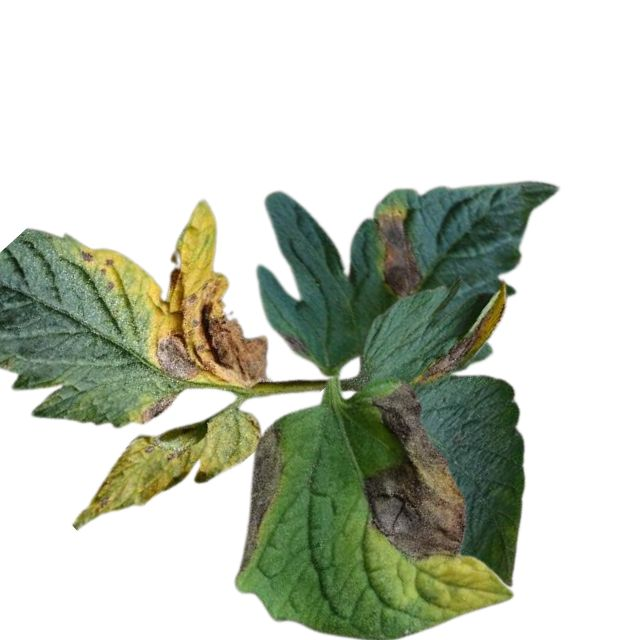Early_blight: (360, 381, 466, 562), (153, 262, 268, 385), (414, 283, 512, 380), (234, 426, 282, 570), (372, 202, 421, 296), (136, 392, 177, 427), (279, 331, 306, 356), (76, 246, 94, 268)
